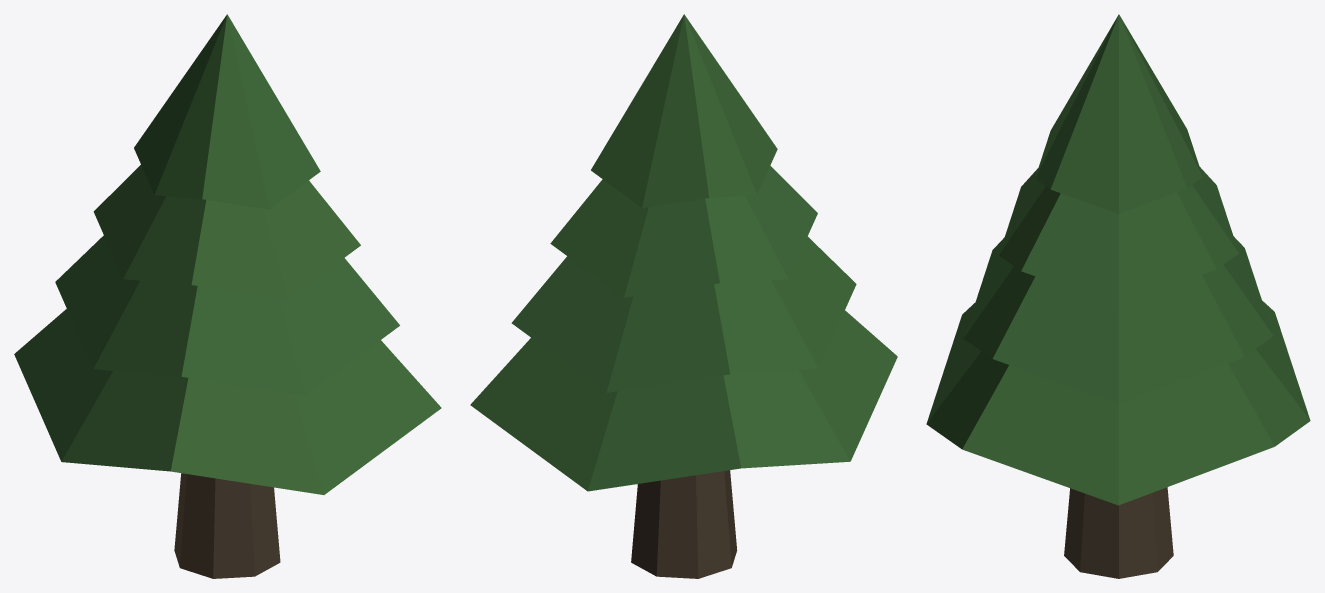
The model's file is Pine.fbx.
3 views of the same model, side by side, from view 1: azimuth 30°, elevation 25°; view 2: azimuth 150°, elevation 25°; view 3: azimuth 270°, elevation 25° (orthographic).
Visible parts, largest first — view 1: Pine; view 2: Pine; view 3: Pine.
Part boxes in pixels (bbox=[...]): Pine: bbox=[14, 14, 441, 578]; Pine: bbox=[470, 14, 897, 578]; Pine: bbox=[926, 14, 1310, 578].
Bounding box in the file's own units: 777 × 1208 × 777.
